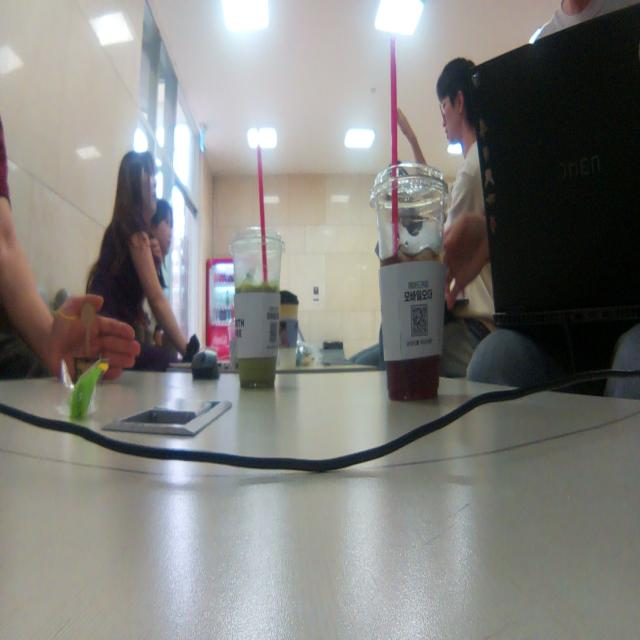target: (72, 295, 105, 385)
